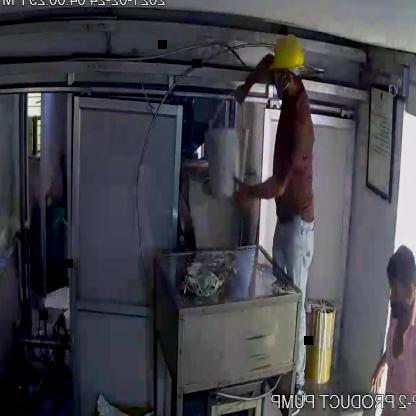helmet: (265, 30, 307, 76)
